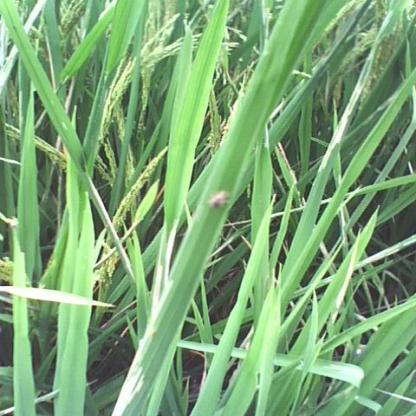rice-bug: (206, 186, 236, 212)
